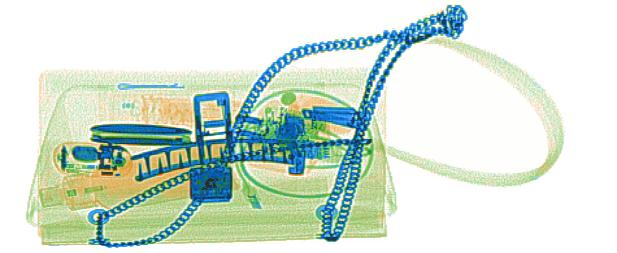plasticBottleWithaNozzle: (36, 129, 240, 209)
